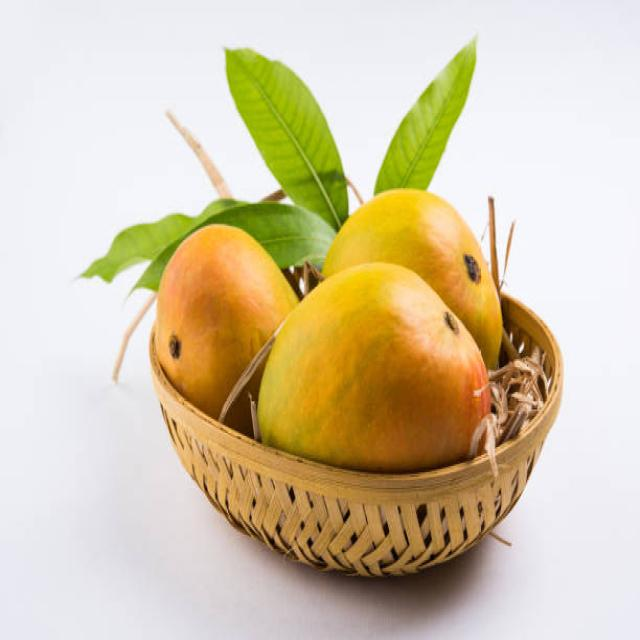mango: (259, 264, 490, 472), (322, 189, 501, 368), (155, 225, 298, 417)
